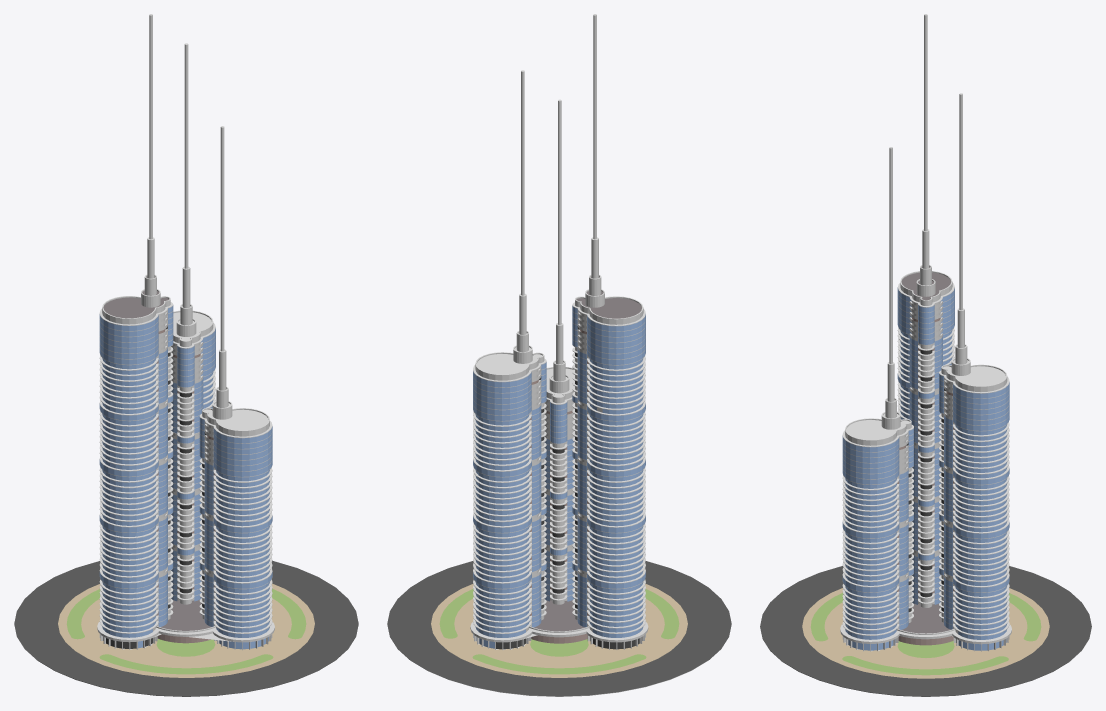
File: Skyscraper7.fbx
3 views of the same model, side by side, from view 1: azimuth 30°, elevation 25°; view 2: azimuth 150°, elevation 25°; view 3: azimuth 270°, elevation 25° (orthographic). The views are drawn at different scales.
Visible parts, largest first — view 1: Mesh3433 Model; view 2: Mesh3433 Model; view 3: Mesh3433 Model.
Boxes of the visible parts, x1=… form: Mesh3433 Model: x1=14, y1=14, x2=358, y2=696; Mesh3433 Model: x1=387, y1=14, x2=731, y2=696; Mesh3433 Model: x1=760, y1=14, x2=1091, y2=696.
Size of the model in its own units: 1953 by 3866 by 1953.
